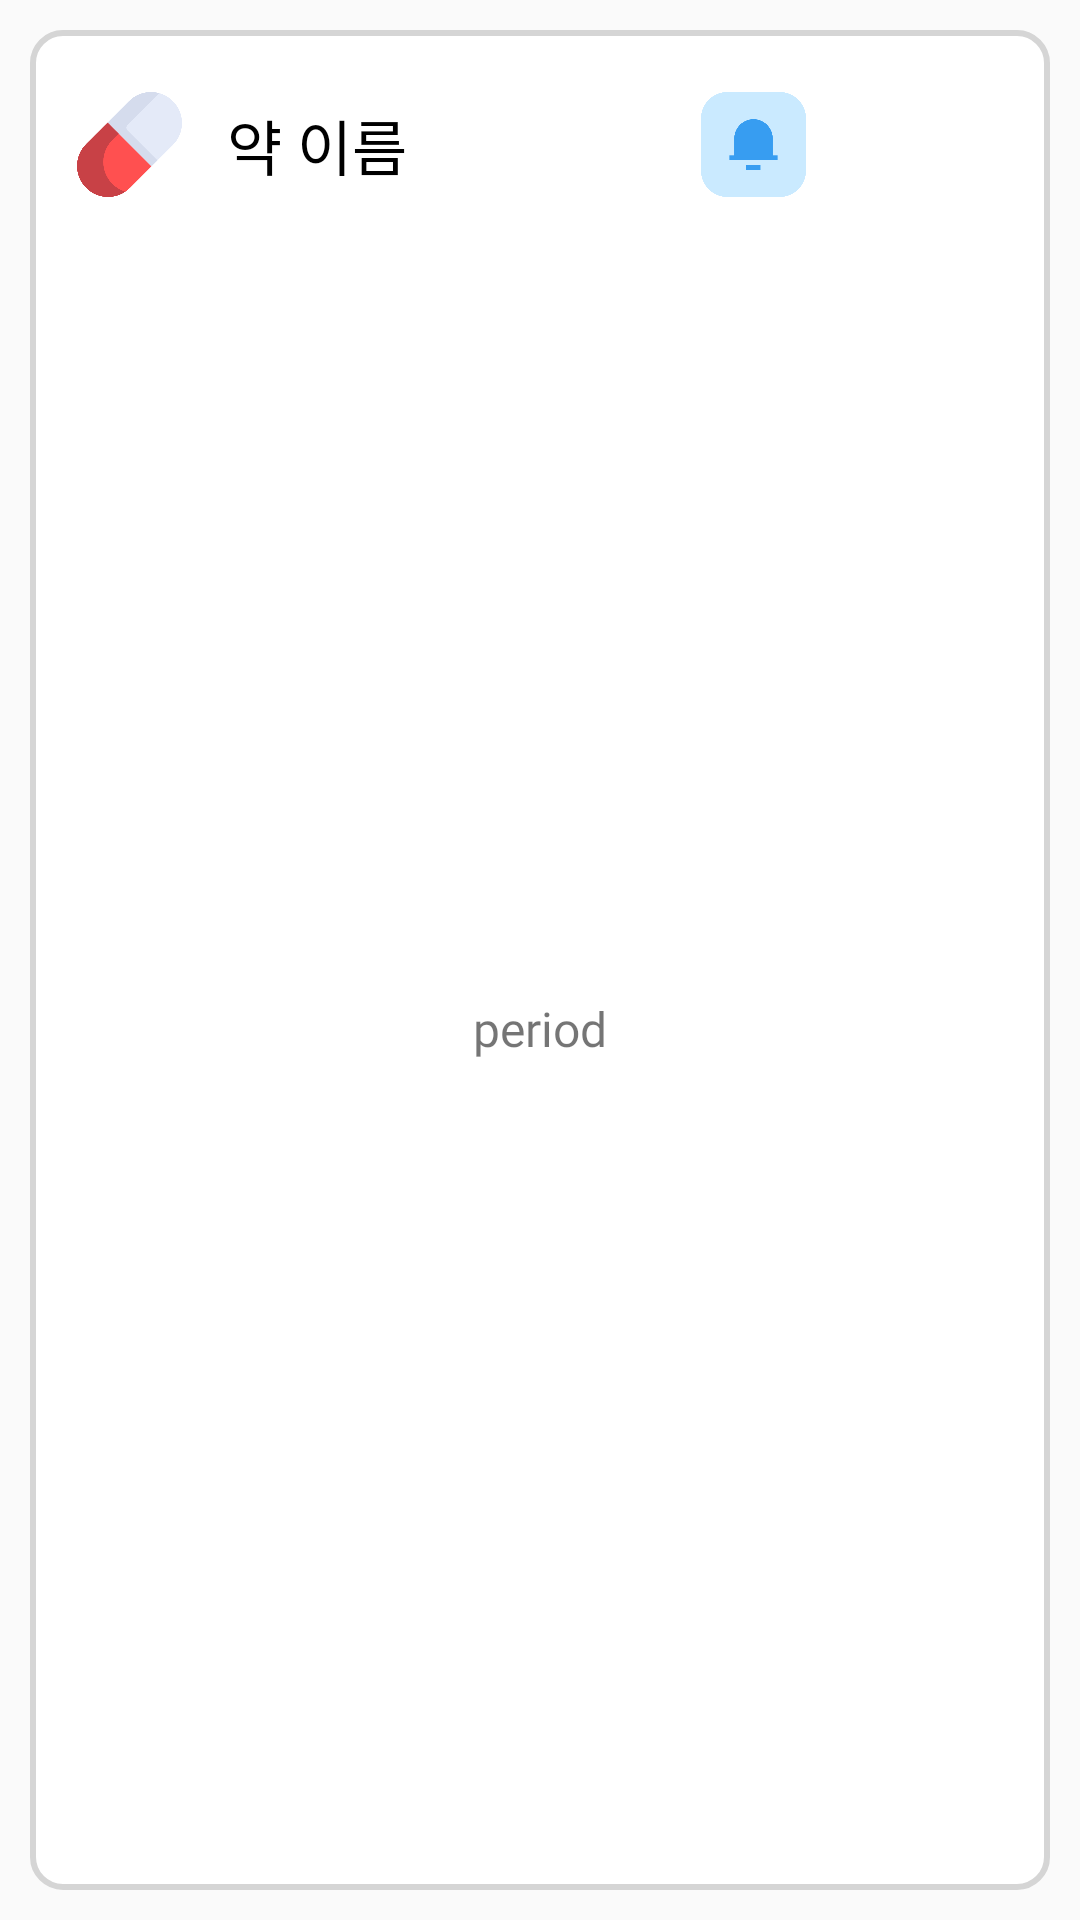

Where to tap for icons on this 1080px x 1920px app screen, as [x,y]:
alarm on: [753,144]
pill: [129,144]
